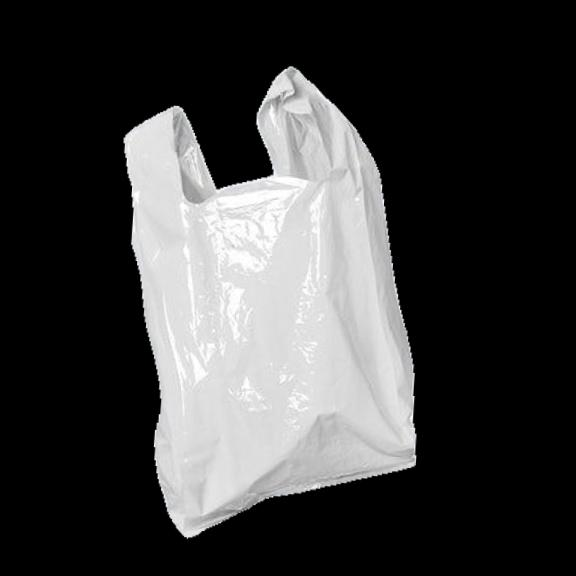Plastik: (99, 52, 455, 544)
